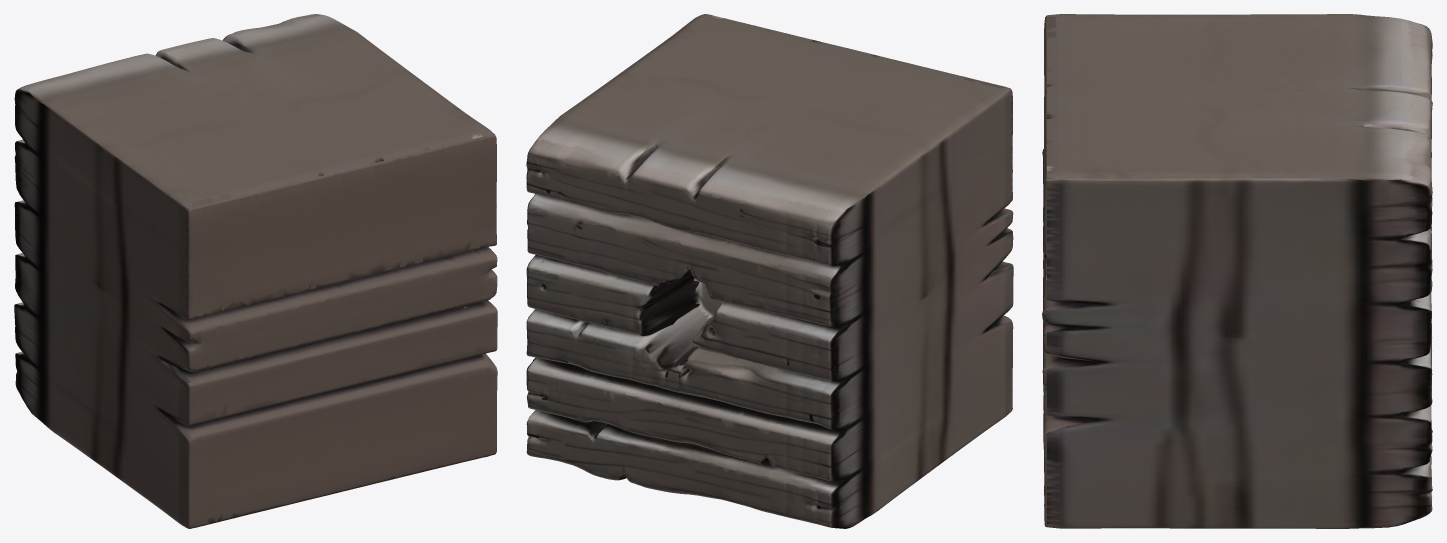
File: wall-timber-damaged.glb
3 renders of one model, left to right at view 1: azimuth 30°, elevation 25°; view 2: azimuth 150°, elevation 25°; view 3: azimuth 270°, elevation 25°, orthographic. The views are drawn at different scales.
Parts seen in each view (by area): view 1: tmpebtz_nko.ply; view 2: tmpebtz_nko.ply; view 3: tmpebtz_nko.ply.
Boxes of the visible parts, <box> form: tmpebtz_nko.ply: <box>14,14,497,528</box>; tmpebtz_nko.ply: <box>526,14,1013,528</box>; tmpebtz_nko.ply: <box>1042,14,1432,528</box>.
Size of the model in its own units: 1 by 1 by 1.
1 material, 1 textured.
